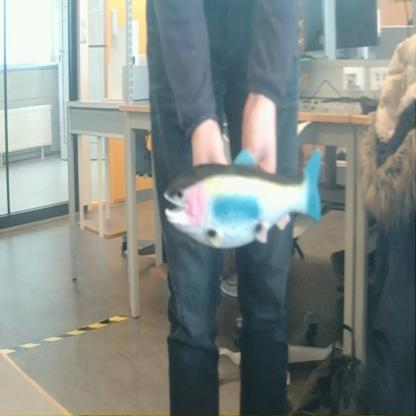rubberfish: (153, 143, 327, 254)
